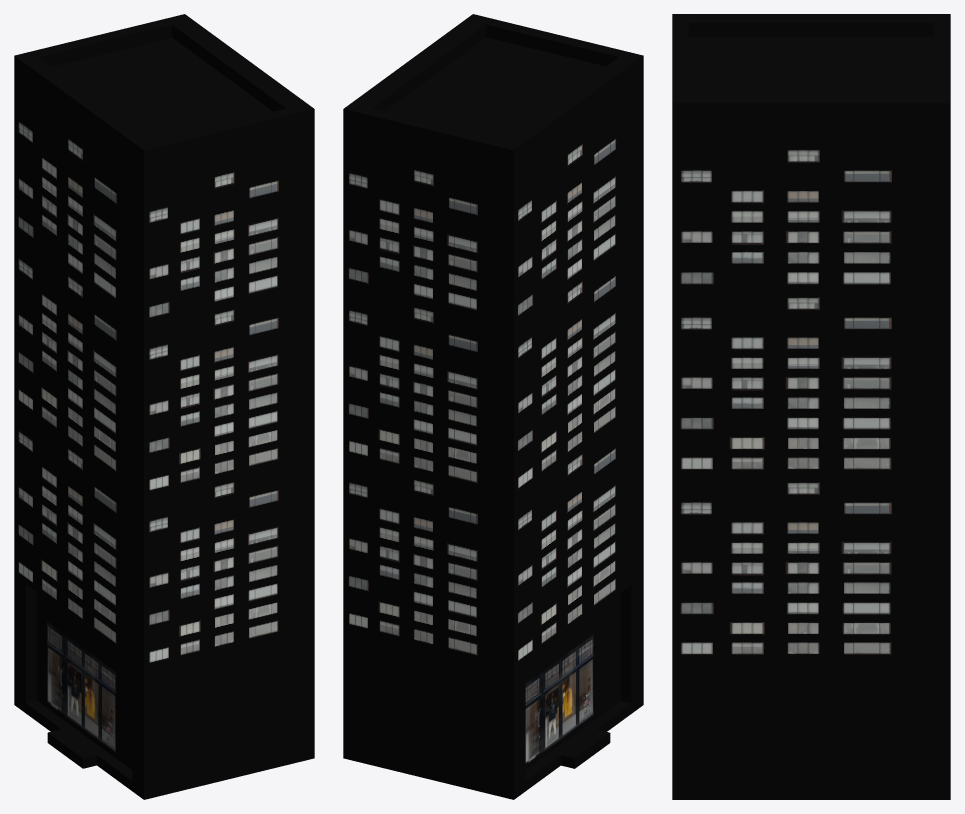
File: building8.FBX
3 views of the same model, side by side, from view 1: azimuth 30°, elevation 25°; view 2: azimuth 150°, elevation 25°; view 3: azimuth 270°, elevation 25° (orthographic). The views are drawn at different scales.
Parts seen in each view (by area): view 1: Box002; view 2: Box002; view 3: Box002.
Part boxes in pixels (x1,y1,x2,y2): Box002: (14,14,314,799); Box002: (343,14,643,799); Box002: (672,14,950,799).
Size of the model in its own units: 46.46 by 156 by 56.59.
